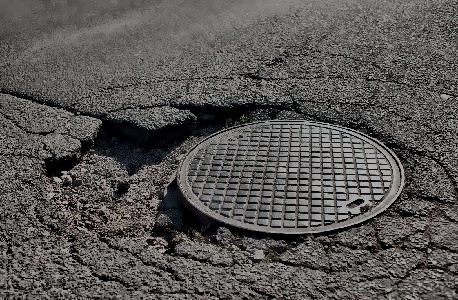pothole: (37, 96, 266, 251)
